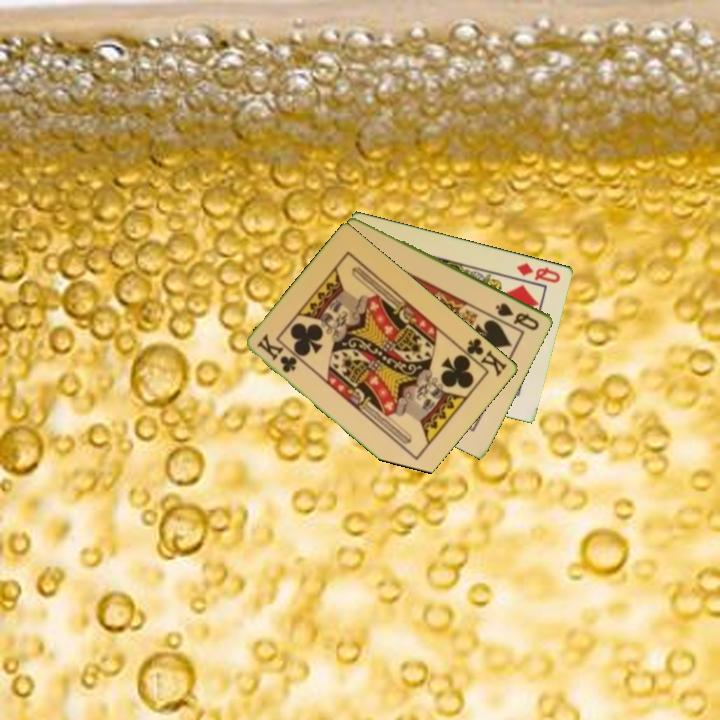Kc: (457, 334, 510, 380), (253, 331, 301, 376)
Qd: (514, 259, 564, 286)
Qs: (492, 299, 542, 333)
